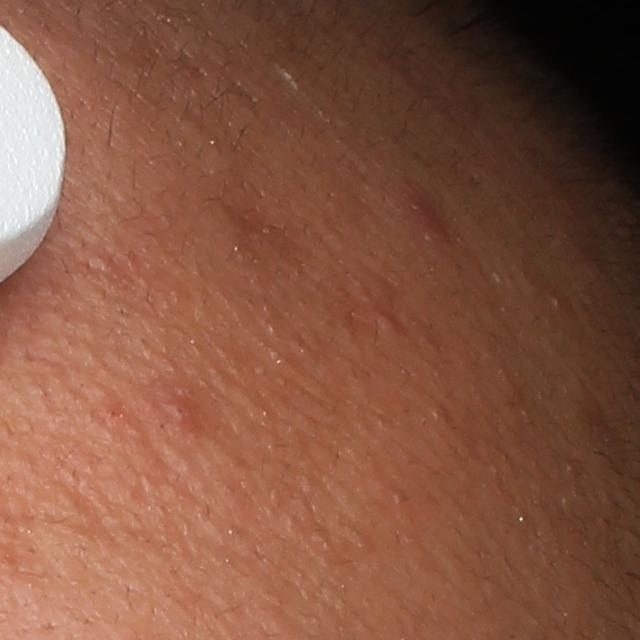papule: (133, 377, 205, 435), (391, 185, 447, 246), (362, 298, 407, 346)
